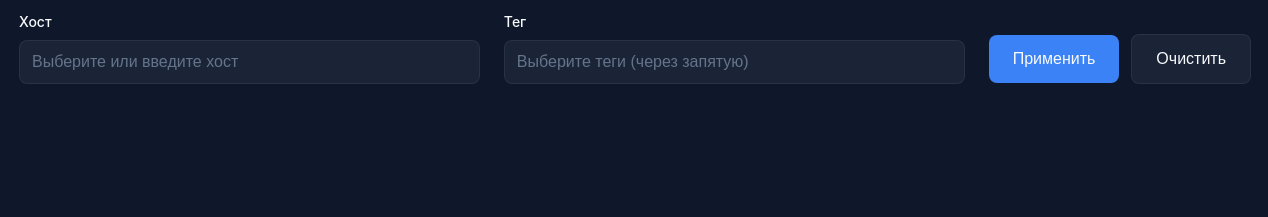
Test: FiltersNew Component › shows host dropdown on focus
Step 1. Click the field labelled "Хост" → {"x": 249, "y": 62}, box x1=19 y1=40 x2=480 y2=84
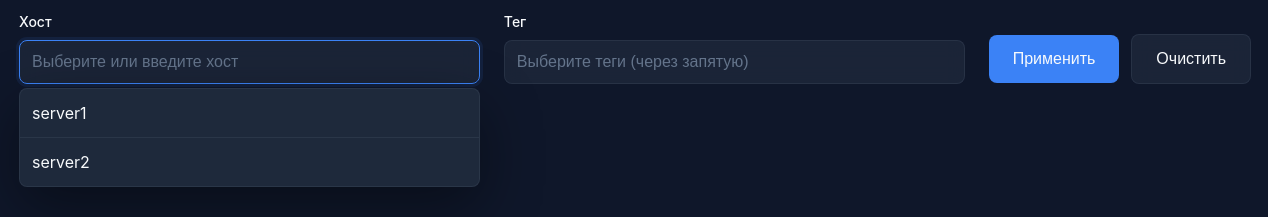
Expected: the text "server1" is shown, x1=20 y1=89 x2=479 y2=138
Expected: the text "server2" is shown, x1=32 y1=152 x2=90 y2=172
